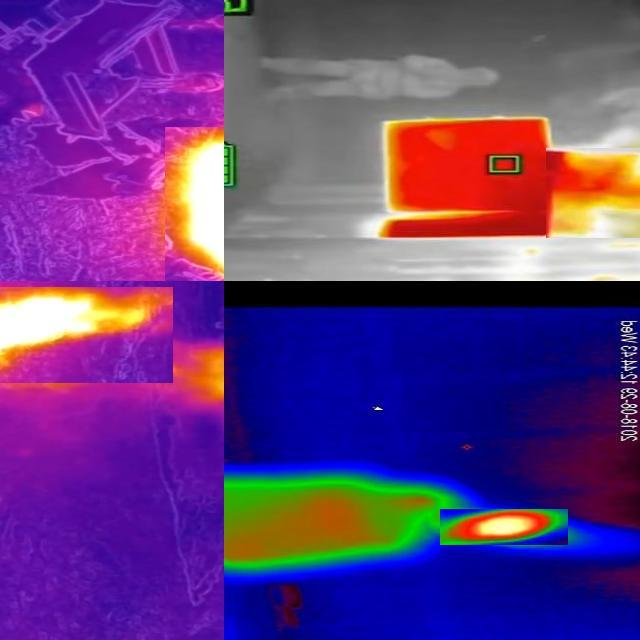fire: (1, 288, 173, 384), (164, 127, 225, 282), (546, 149, 640, 239), (440, 510, 568, 546)
